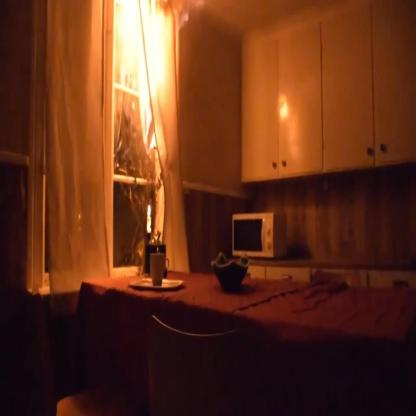fire: (116, 0, 188, 156), (146, 203, 152, 215)
